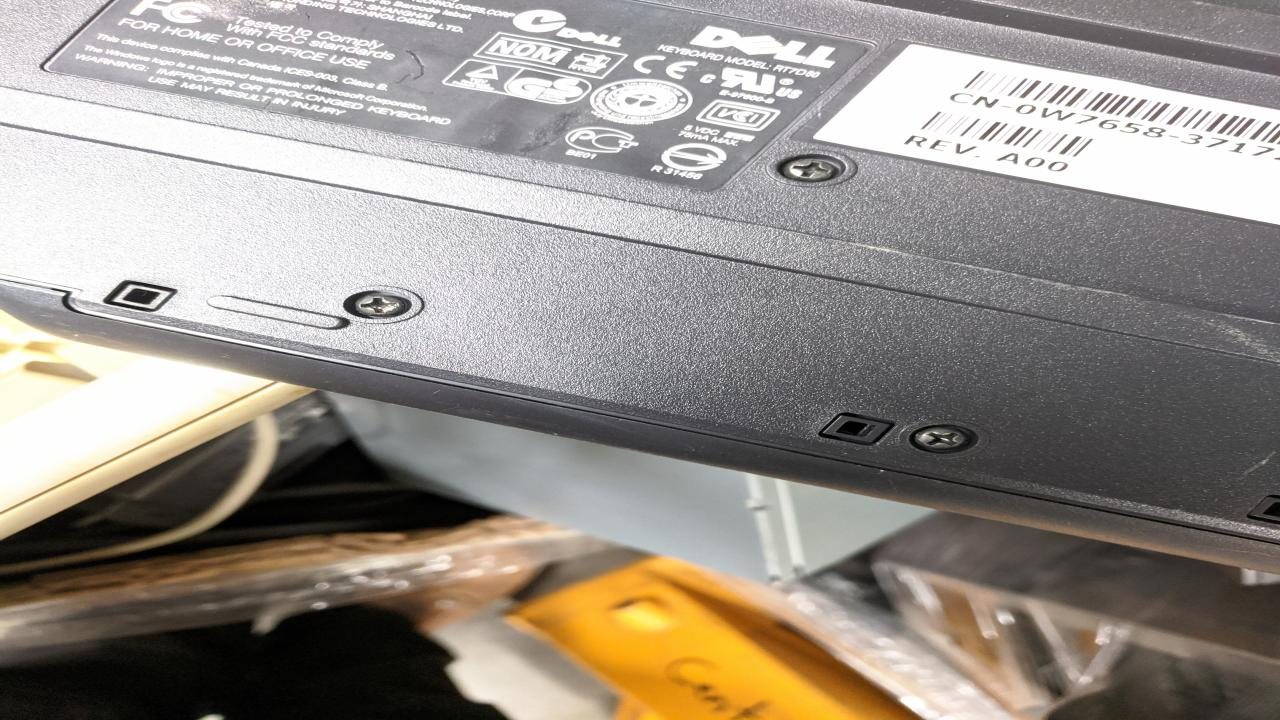CRS: (342, 291, 416, 320), (774, 158, 841, 184), (912, 424, 972, 453)
